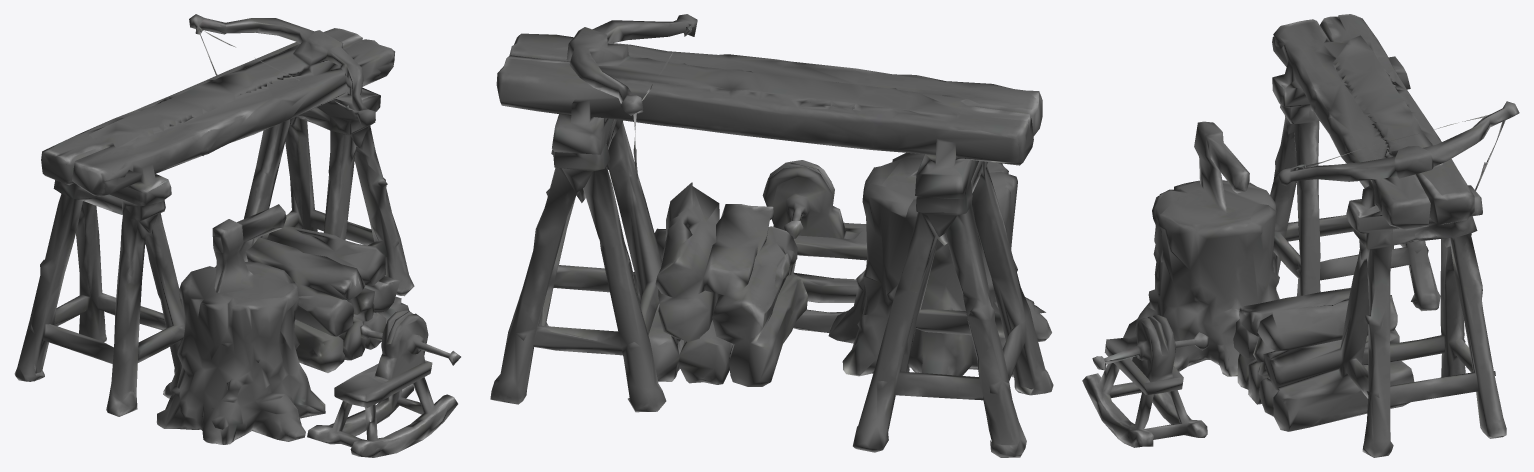
File: town_station_woodshop.glb
3 views of the same model, side by side, from view 1: azimuth 30°, elevation 25°; view 2: azimuth 150°, elevation 25°; view 3: azimuth 270°, elevation 25° (orthographic). The views are drawn at different scales.
Parts seen in each view (by area): view 1: tripo_node_59fc7163-0769-4f97-b48d-c6770249a70a; view 2: tripo_node_59fc7163-0769-4f97-b48d-c6770249a70a; view 3: tripo_node_59fc7163-0769-4f97-b48d-c6770249a70a.
Boxes of the visible parts, x1,y1,x2,y2 form: tripo_node_59fc7163-0769-4f97-b48d-c6770249a70a: (14, 14, 460, 457); tripo_node_59fc7163-0769-4f97-b48d-c6770249a70a: (490, 14, 1053, 457); tripo_node_59fc7163-0769-4f97-b48d-c6770249a70a: (1082, 14, 1519, 457).
Bounding box in the file's own units: 2.47 × 1.79 × 2.26.
Materials: 1 (1 with a texture image).
